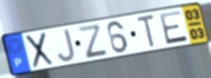6: (107, 19, 130, 55)
E: (158, 9, 190, 46)
J: (56, 27, 77, 63)
T: (135, 13, 157, 50)
X: (25, 30, 56, 70)
Z: (76, 23, 110, 60)
